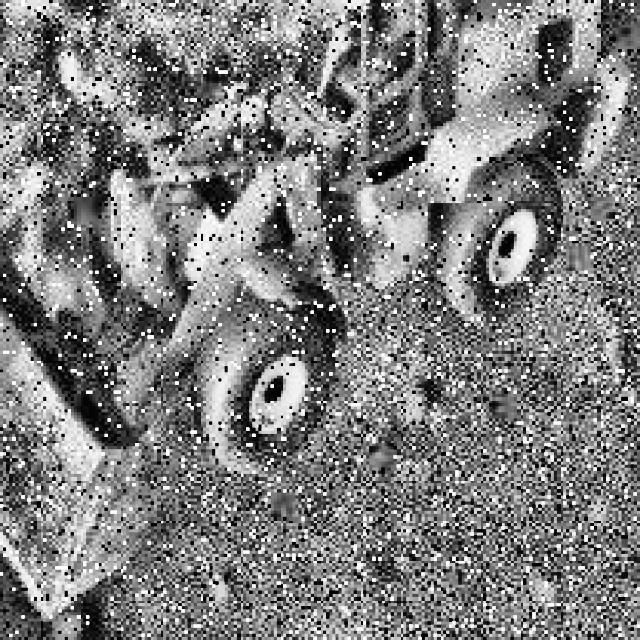buldozerpayloadergrader: (0, 0, 628, 628)
